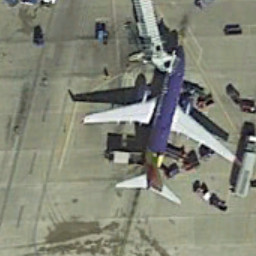Airplane: (74, 36, 245, 215)
